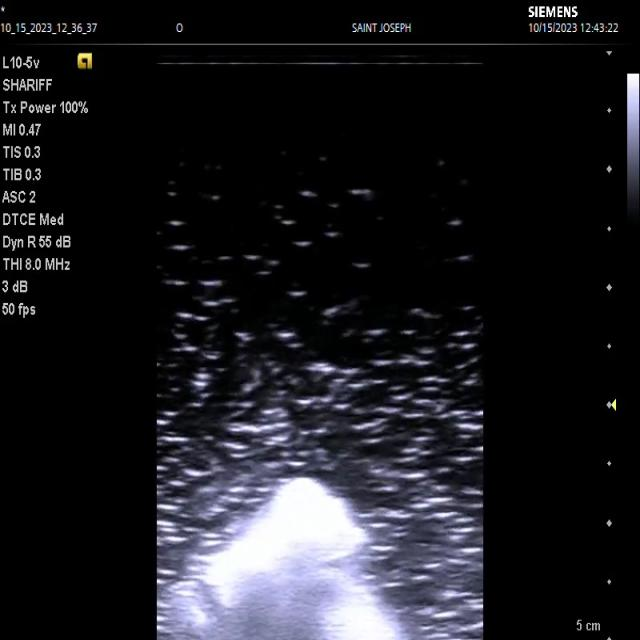tissue: (158, 478, 406, 640)
